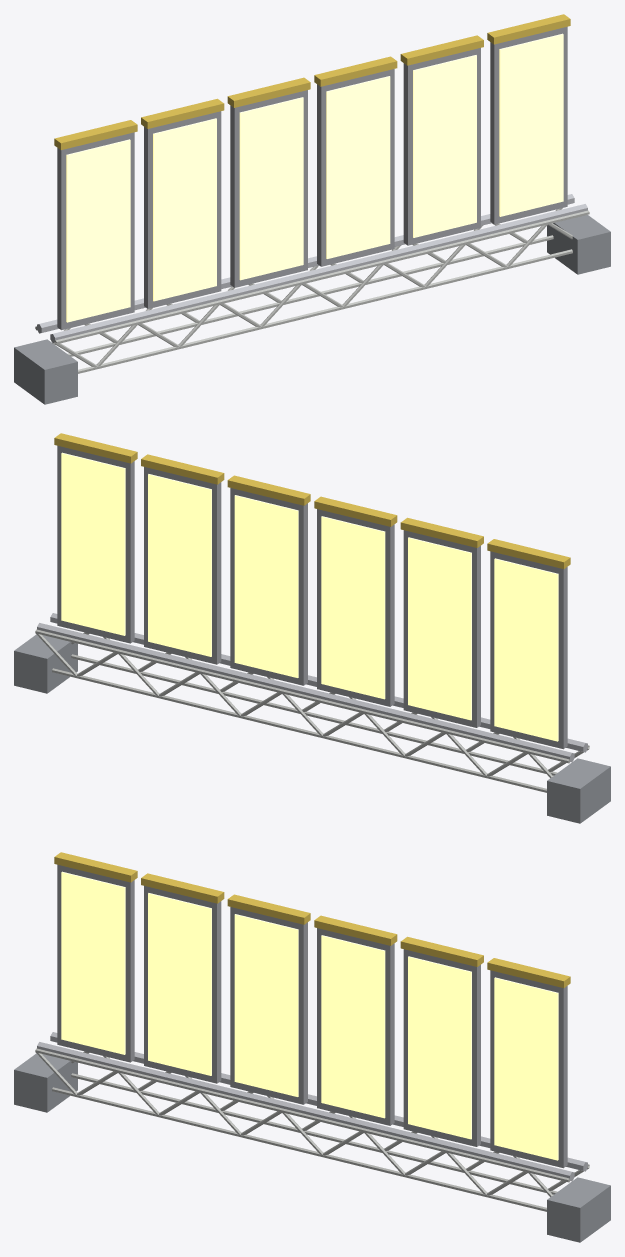
The model's file is radiator_bank.glb.
3 renders of one model, top to bottom at view 1: azimuth 30°, elevation 25°; view 2: azimuth 150°, elevation 25°; view 3: azimuth 330°, elevation 25°, orthographic.
Visible parts, largest first — view 1: fin0_core, fin2_core, fin5_core, fin3_core, fin1_core, fin4_core, spine, coolant_r, fin5_frame, fin3_frame, fin0_frame, fin2_frame (+11 smaller); view 2: fin0_core, fin2_core, fin5_core, fin3_core, fin1_core, fin4_core, spine, coolant_f, fin5_frame, fin3_frame, fin0_frame, fin2_frame (+11 smaller); view 3: fin0_core, fin3_core, fin5_core, fin2_core, fin4_core, fin1_core, spine, coolant_r, fin0_frame, fin2_frame, fin3_frame, fin5_frame (+11 smaller).
Part boxes in pixels (bbox=[...]): fin0_core: bbox=[66, 139, 130, 322]; fin2_core: bbox=[239, 97, 303, 280]; fin5_core: bbox=[499, 33, 563, 216]; fin3_core: bbox=[326, 76, 390, 258]; fin1_core: bbox=[153, 118, 216, 301]; fin4_core: bbox=[413, 55, 476, 237]; spine: bbox=[35, 208, 589, 373]; coolant_r: bbox=[50, 204, 587, 343]; fin5_frame: bbox=[490, 26, 567, 224]; fin3_frame: bbox=[317, 69, 394, 266]; fin0_frame: bbox=[57, 132, 134, 330]; fin2_frame: bbox=[230, 90, 307, 287]; fin0_core: bbox=[494, 558, 558, 741]; fin2_core: bbox=[321, 516, 385, 699]; fin5_core: bbox=[61, 452, 125, 635]; fin3_core: bbox=[234, 495, 298, 677]; fin1_core: bbox=[408, 537, 471, 720]; fin4_core: bbox=[148, 474, 211, 656]; spine: bbox=[35, 629, 589, 792]; coolant_f: bbox=[37, 623, 574, 762]; fin5_frame: bbox=[57, 445, 134, 643]; fin3_frame: bbox=[230, 488, 307, 685]; fin0_frame: bbox=[490, 551, 567, 749]; fin2_frame: bbox=[317, 509, 394, 706]; fin0_core: bbox=[61, 871, 125, 1054]; fin3_core: bbox=[321, 935, 385, 1118]; fin5_core: bbox=[494, 977, 558, 1160]; fin2_core: bbox=[234, 914, 298, 1096]; fin4_core: bbox=[408, 956, 471, 1139]; fin1_core: bbox=[148, 893, 211, 1075]; spine: bbox=[35, 1048, 589, 1211]; coolant_r: bbox=[37, 1042, 574, 1181]; fin0_frame: bbox=[57, 864, 134, 1062]; fin2_frame: bbox=[230, 907, 307, 1104]; fin3_frame: bbox=[317, 928, 394, 1125]; fin5_frame: bbox=[490, 970, 567, 1168].
Size of the model in its own units: 17 by 7.05 by 1.6.
